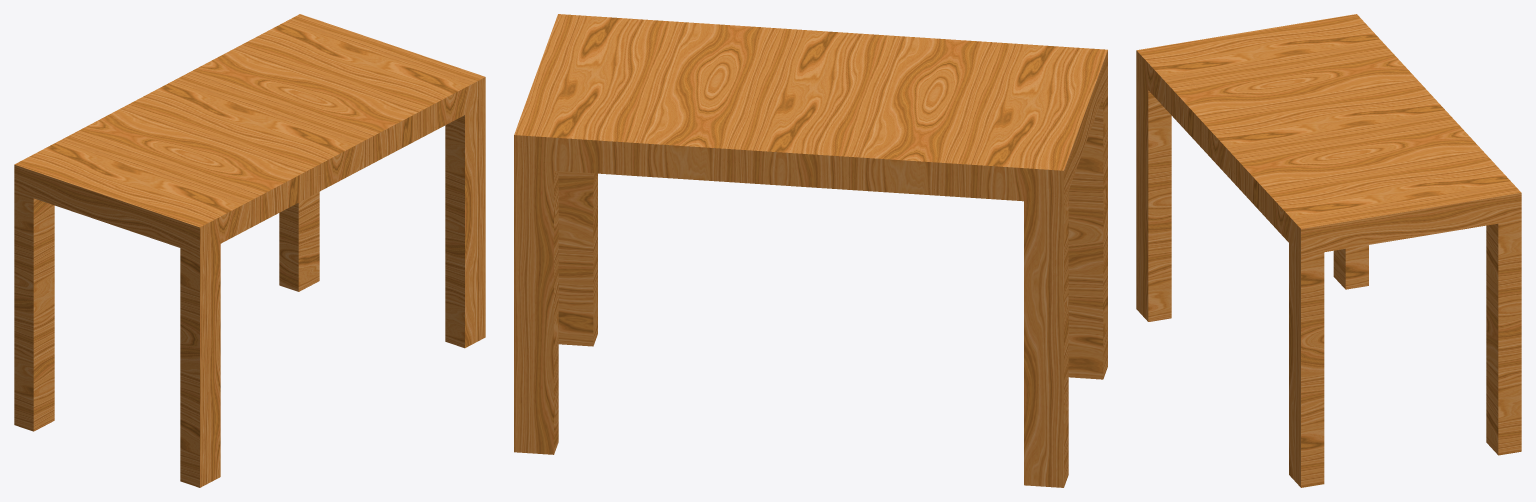
Rendered from table.obj.
The picture shows the model from 3 angles, left to right: view 1: azimuth 30°, elevation 25°; view 2: azimuth 150°, elevation 25°; view 3: azimuth 270°, elevation 25°; orthographic projection. The views are drawn at different scales.
Visible parts, largest first — view 1: Cube.006_Cube.013; view 2: Cube.006_Cube.013; view 3: Cube.006_Cube.013.
Boxes of the visible parts, x1,y1,x2,y2 form: Cube.006_Cube.013: (14, 14, 485, 487); Cube.006_Cube.013: (514, 14, 1107, 487); Cube.006_Cube.013: (1136, 14, 1521, 487).
Size of the model in its own units: 1.47 by 0.8276 by 1.12.
